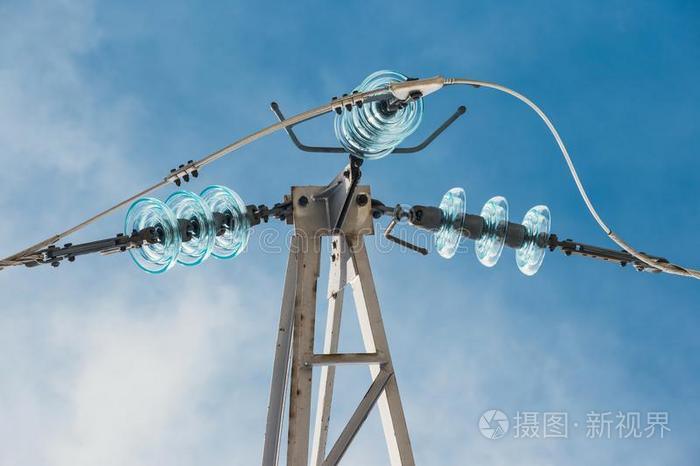insulator: (123, 181, 251, 272), (438, 185, 552, 277), (333, 72, 420, 157)
